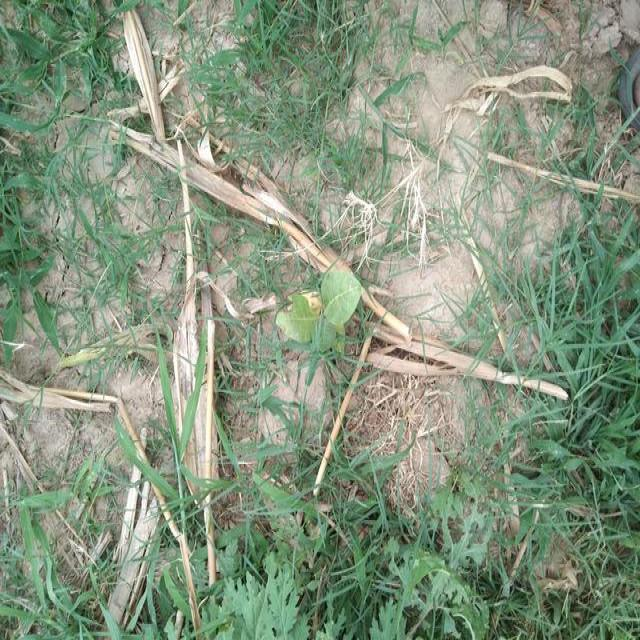crop: (269, 249, 371, 361)
